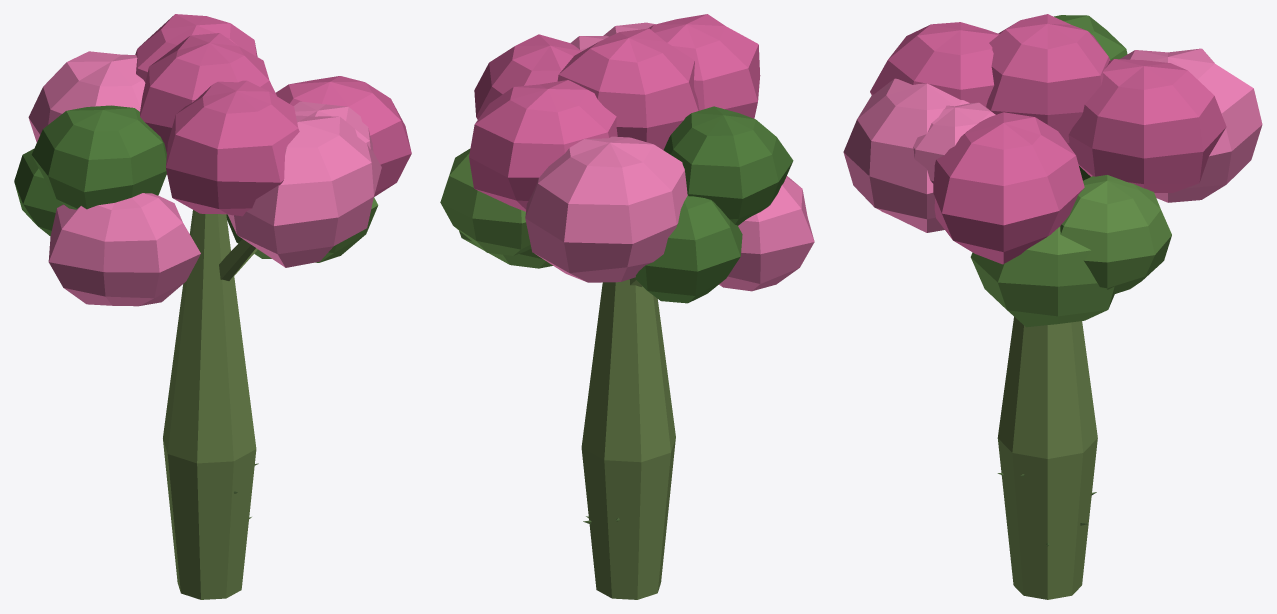
The model's file is tree_silk_floss_medium.glb.
3 renders of one model, left to right at view 1: azimuth 30°, elevation 25°; view 2: azimuth 150°, elevation 25°; view 3: azimuth 270°, elevation 25°, orthographic. The views are drawn at different scales.
Visible parts, largest first — view 1: tree_silk_floss_medium; view 2: tree_silk_floss_medium; view 3: tree_silk_floss_medium.
Boxes of the visible parts, x1=… form: tree_silk_floss_medium: x1=14, y1=14, x2=411, y2=599; tree_silk_floss_medium: x1=440, y1=14, x2=814, y2=599; tree_silk_floss_medium: x1=843, y1=14, x2=1262, y2=599.
Size of the model in its own units: 6.34 by 9.49 by 6.42.
